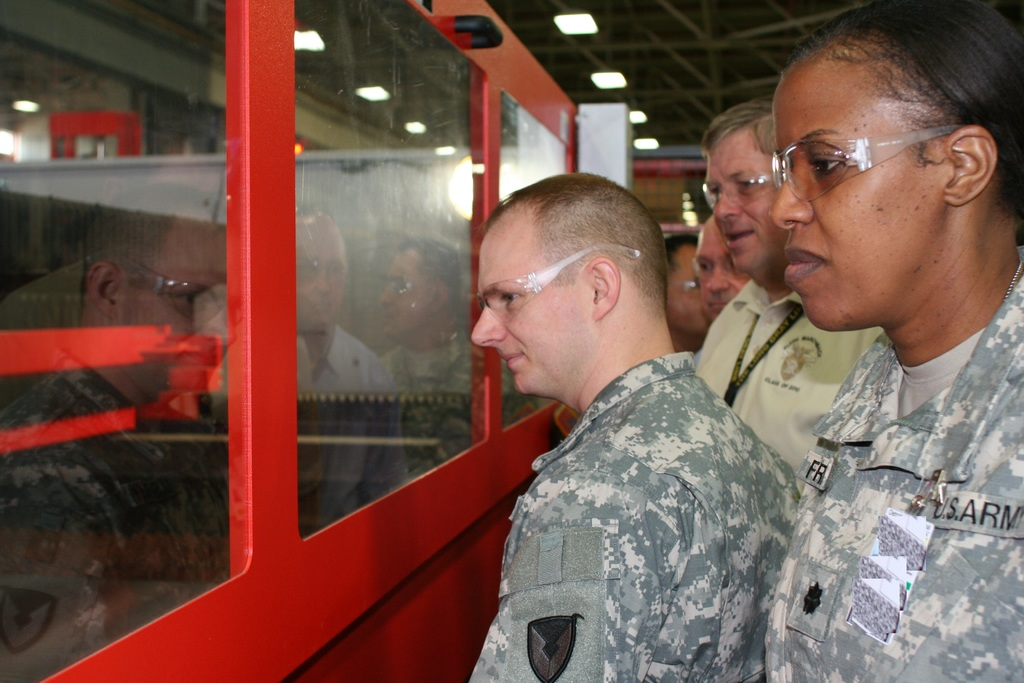Human-face: (772, 66, 950, 323), (475, 238, 602, 397), (119, 222, 227, 404), (715, 145, 790, 277), (295, 219, 348, 330), (376, 251, 435, 340), (662, 240, 711, 335), (698, 227, 750, 315)
